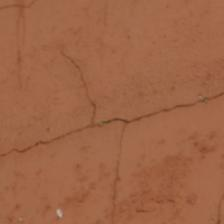Crack: (51, 18, 176, 146), (0, 147, 198, 191), (0, 24, 69, 118)
